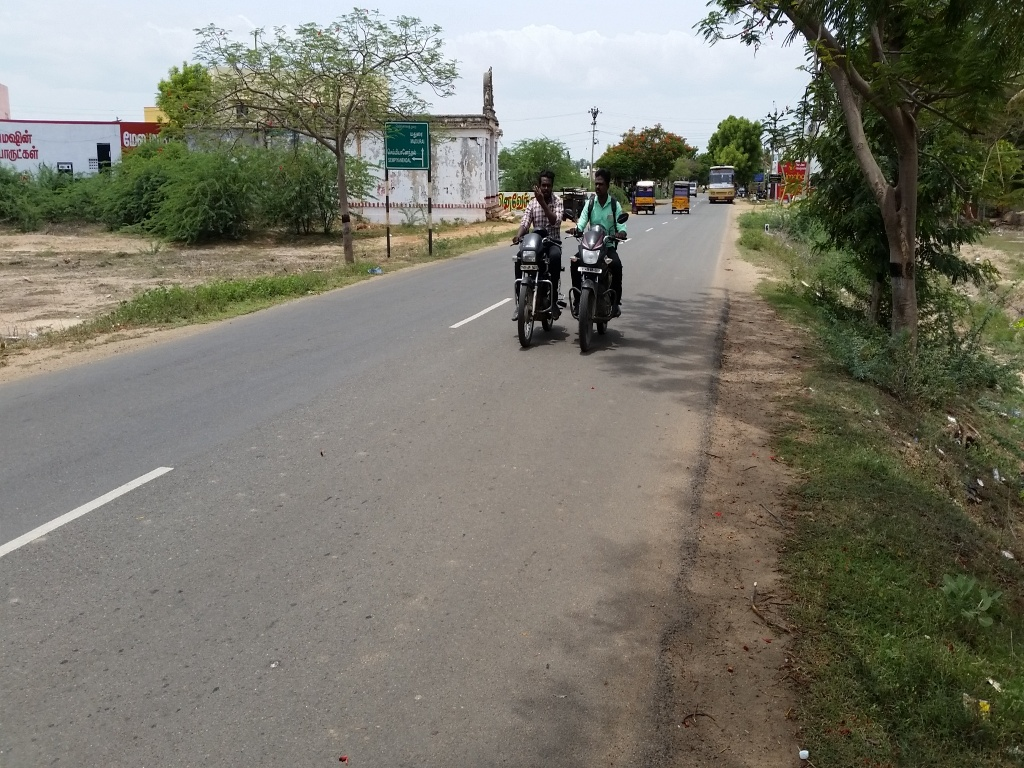biker: (561, 151, 639, 360), (485, 143, 563, 352)
nohelmet: (587, 163, 617, 205), (530, 164, 560, 206)
